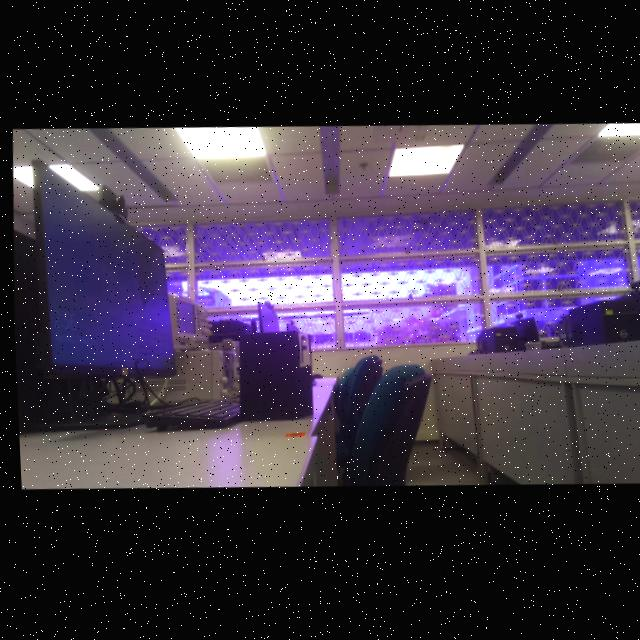F: (298, 338, 302, 366)
